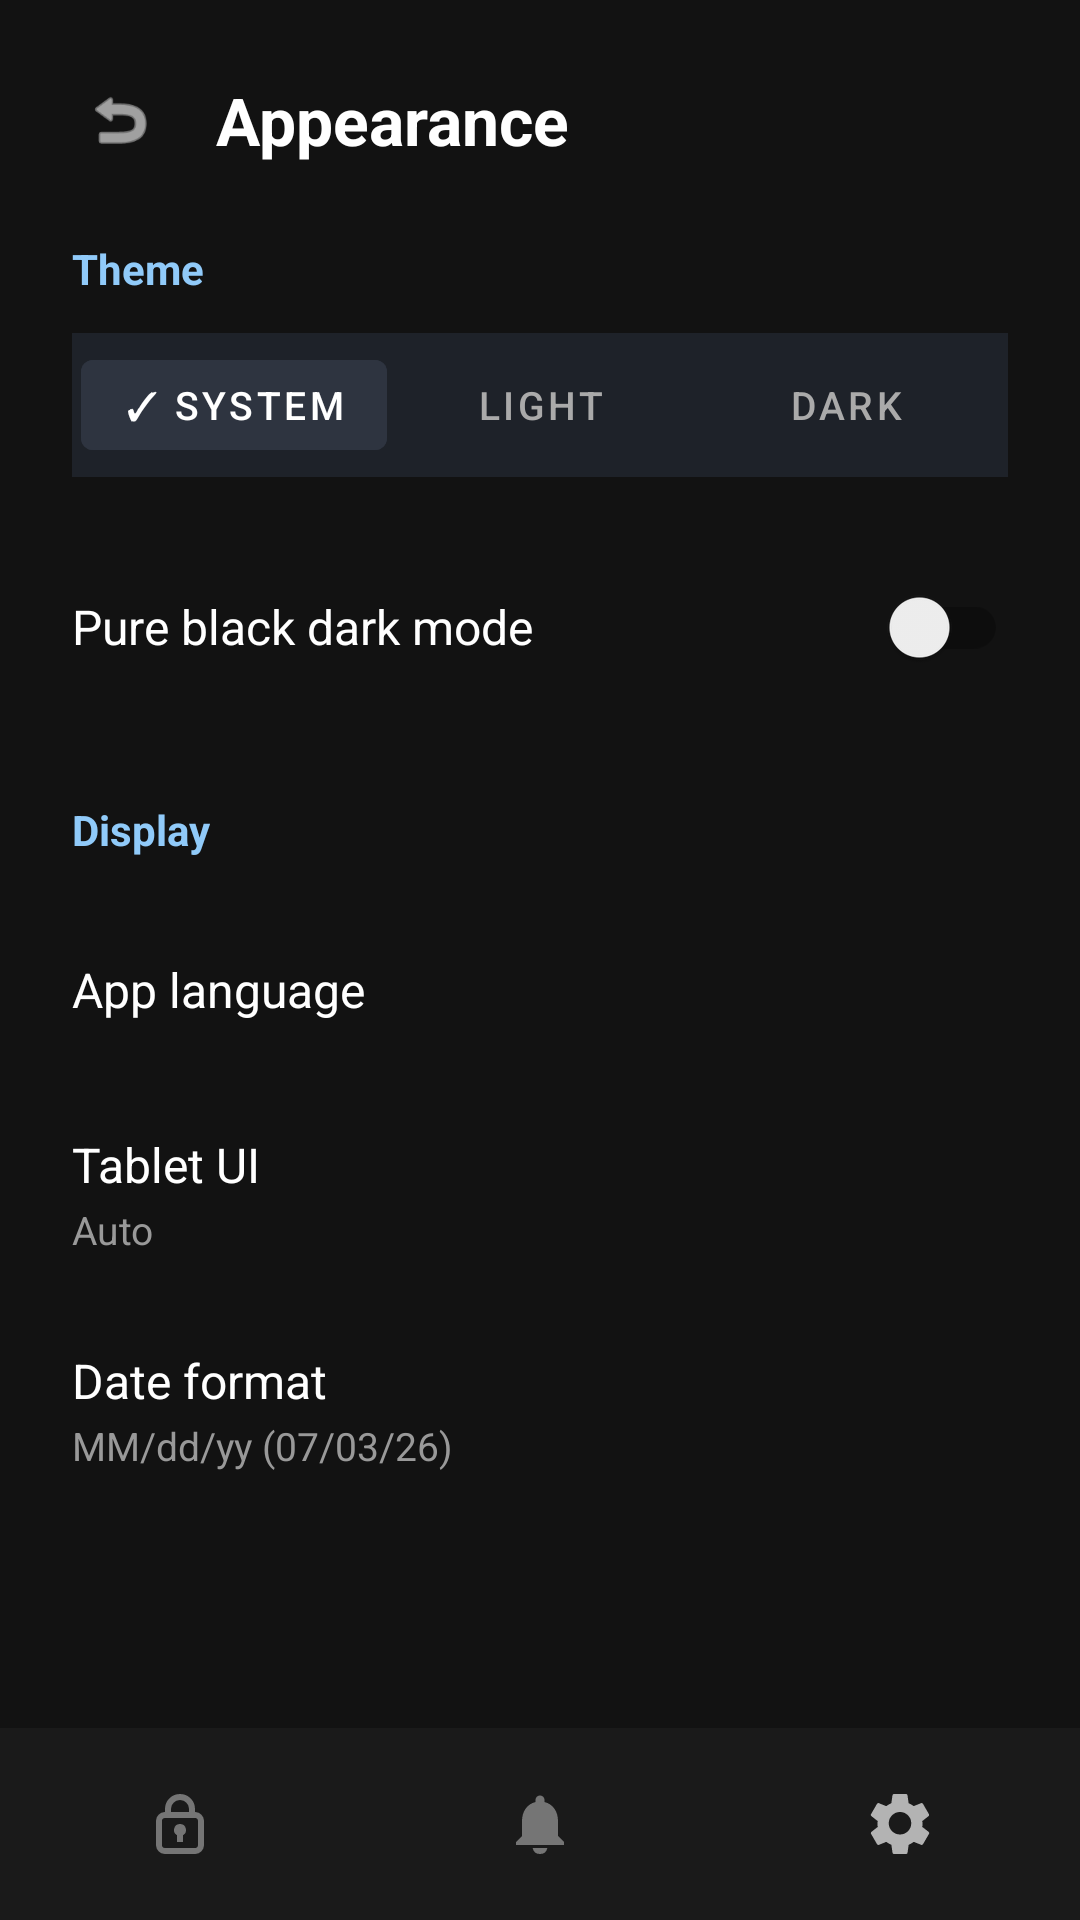

Where icons sit on this 1080x1920 app screen, as detection(x1, y1, x2, y2):
Back: detection(95, 97, 147, 144)
Credentials: detection(156, 1794, 204, 1854)
Notifications: detection(516, 1795, 564, 1854)
Settings: detection(871, 1794, 929, 1854)
